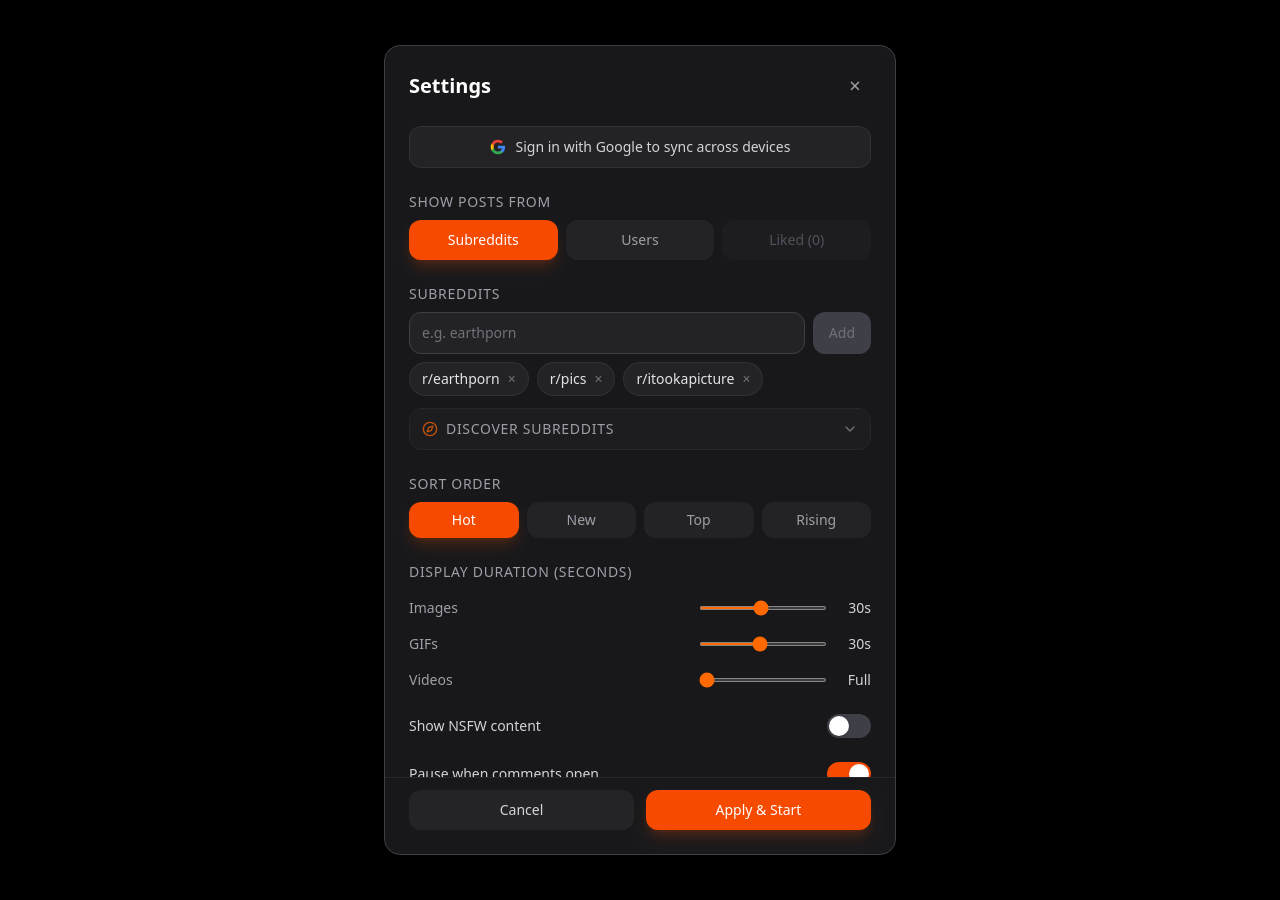
Test: SettingsPanel › removes a subreddit
Click the button named "Remove r/pics": (598, 379) [594,369,602,389]
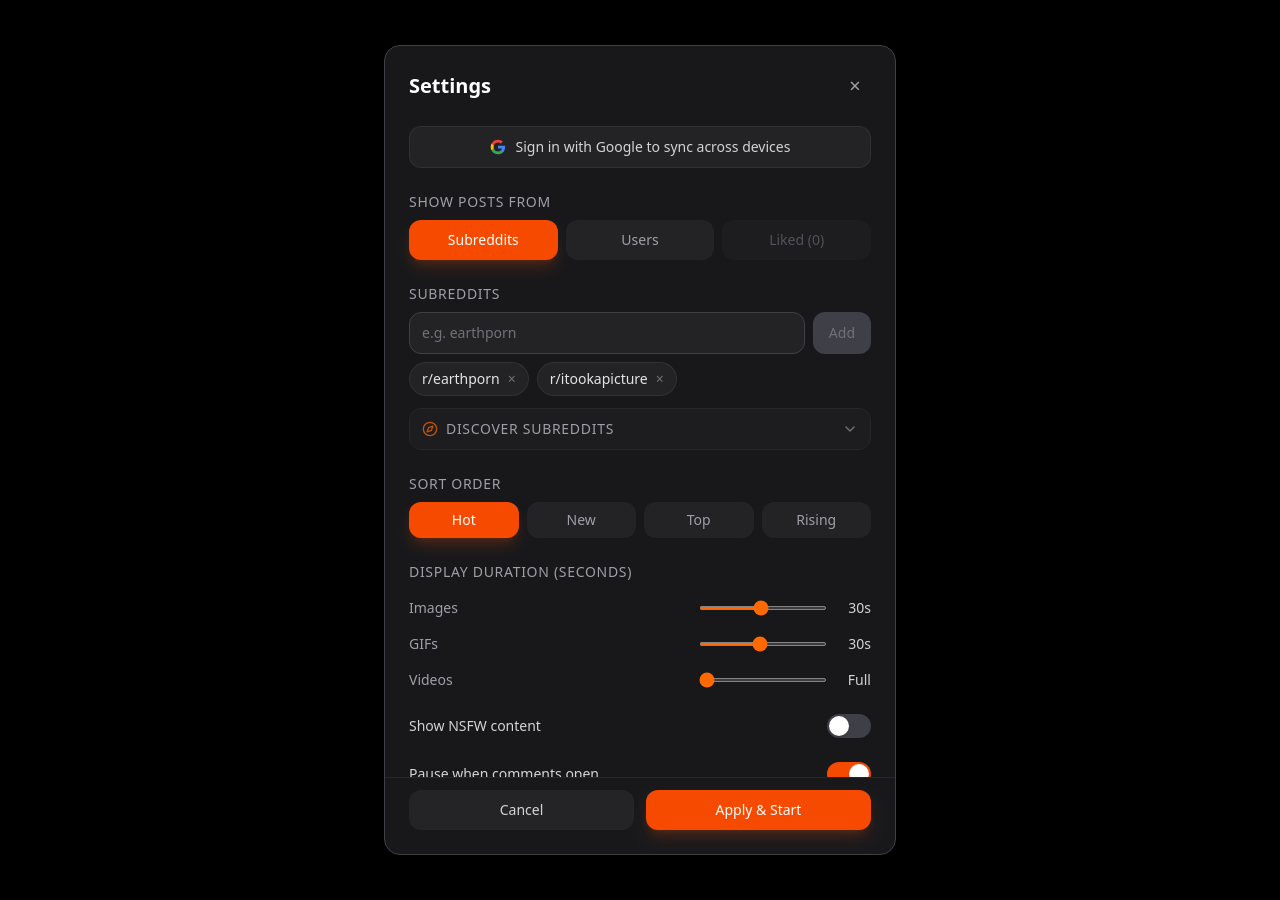
Result: the text "r/pics" is gone
